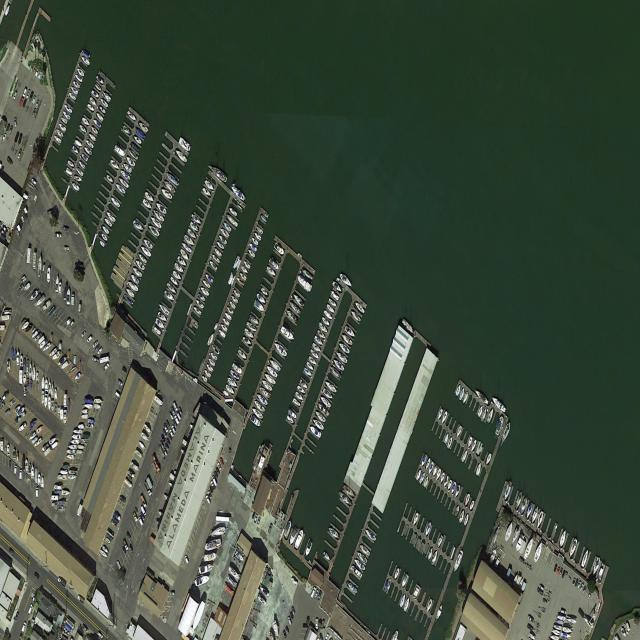large-vehicle: (144, 481, 152, 497), (57, 576, 67, 588), (139, 495, 147, 509), (76, 504, 83, 517), (494, 556, 500, 570), (1, 314, 11, 321), (71, 294, 75, 306)
ship: (208, 160, 228, 184), (499, 421, 512, 450), (452, 548, 464, 576), (257, 445, 270, 470), (280, 324, 296, 344), (231, 183, 247, 203), (338, 490, 354, 509), (491, 395, 507, 414), (297, 274, 312, 294), (523, 536, 535, 561), (204, 538, 222, 554), (493, 415, 504, 441), (339, 271, 354, 290), (273, 340, 288, 359), (474, 387, 489, 406), (503, 520, 515, 543), (503, 477, 514, 502), (533, 540, 544, 565), (209, 525, 228, 539), (166, 170, 180, 188), (228, 564, 241, 583), (294, 528, 305, 550), (514, 533, 525, 555), (285, 308, 299, 325), (316, 401, 330, 418), (329, 364, 343, 381), (225, 212, 239, 229), (178, 136, 192, 153), (328, 524, 341, 542), (434, 602, 444, 625), (335, 349, 349, 365), (311, 416, 325, 432), (308, 424, 322, 440), (174, 148, 188, 164), (163, 179, 177, 195), (251, 405, 264, 422), (289, 300, 302, 317), (292, 291, 305, 308), (401, 318, 414, 335), (364, 527, 377, 544), (568, 538, 578, 560), (324, 380, 338, 395), (580, 548, 590, 569), (519, 495, 529, 516), (341, 332, 354, 348), (338, 340, 351, 356), (333, 357, 346, 373), (345, 579, 358, 595), (350, 564, 363, 580), (157, 301, 170, 317), (150, 214, 163, 230), (161, 186, 174, 202), (147, 223, 160, 239), (199, 562, 215, 575), (195, 574, 211, 587), (176, 253, 188, 270), (283, 519, 293, 539), (558, 529, 568, 549), (597, 561, 607, 581), (264, 372, 277, 387), (343, 484, 356, 499), (314, 409, 327, 424), (319, 395, 332, 410), (250, 413, 262, 429), (254, 399, 266, 415), (256, 392, 268, 408), (261, 377, 273, 393), (269, 357, 281, 373), (350, 308, 362, 324), (231, 361, 243, 377), (253, 298, 265, 314), (344, 324, 356, 340), (354, 557, 366, 573), (151, 323, 163, 339), (153, 208, 165, 224), (133, 218, 145, 234), (289, 526, 298, 547), (592, 556, 601, 577), (530, 505, 539, 526), (514, 491, 523, 512), (331, 279, 343, 294), (259, 386, 271, 401), (266, 364, 278, 379), (322, 387, 334, 402), (356, 550, 368, 565), (359, 542, 371, 557), (154, 317, 166, 332), (157, 310, 169, 325), (171, 268, 183, 283), (173, 261, 185, 276), (155, 201, 167, 216), (203, 178, 215, 193), (223, 583, 235, 598), (246, 320, 257, 336), (114, 143, 125, 159), (189, 219, 200, 235), (234, 548, 245, 564), (226, 574, 237, 590), (202, 552, 218, 563), (304, 540, 313, 559), (232, 255, 242, 272), (302, 268, 314, 282), (119, 168, 131, 182), (127, 147, 139, 161), (137, 120, 149, 134), (181, 241, 193, 255), (140, 245, 152, 259), (536, 510, 544, 531), (355, 301, 366, 316), (269, 257, 280, 272), (274, 242, 285, 257), (225, 383, 236, 398), (229, 368, 240, 383), (244, 326, 255, 341), (249, 313, 260, 328), (115, 181, 126, 196), (179, 247, 190, 262), (184, 233, 195, 248), (191, 213, 202, 228), (41, 299, 52, 314), (583, 615, 594, 630), (166, 283, 178, 296), (127, 280, 139, 293), (318, 321, 329, 335), (227, 376, 238, 390), (237, 348, 248, 362), (256, 292, 267, 306), (110, 158, 121, 172), (118, 176, 129, 190), (110, 195, 121, 209), (164, 289, 175, 303), (106, 210, 117, 224), (142, 197, 153, 211), (144, 190, 155, 204), (137, 252, 148, 266), (56, 355, 67, 369), (35, 294, 46, 308), (259, 585, 270, 599), (479, 407, 488, 424), (525, 502, 533, 521), (272, 619, 280, 638), (431, 549, 439, 567), (475, 460, 483, 478), (492, 526, 500, 544), (486, 407, 494, 425), (511, 528, 519, 546), (227, 271, 236, 287), (489, 547, 497, 565), (325, 302, 336, 315), (327, 297, 338, 310), (135, 127, 146, 140), (122, 162, 133, 175), (125, 155, 136, 168), (130, 141, 141, 154), (169, 275, 180, 288), (143, 238, 154, 251), (135, 259, 146, 272), (132, 266, 143, 279), (123, 293, 134, 306), (201, 186, 212, 199), (323, 308, 333, 322), (314, 335, 324, 349), (267, 265, 277, 279), (187, 227, 197, 241), (48, 346, 58, 360), (29, 289, 39, 303), (33, 436, 43, 450), (458, 508, 466, 525), (441, 409, 449, 426), (424, 521, 432, 538), (403, 596, 411, 613), (288, 408, 298, 421), (310, 348, 320, 361), (312, 342, 322, 355), (242, 335, 252, 348), (127, 110, 137, 123), (213, 246, 223, 259), (202, 278, 212, 291), (130, 273, 140, 286), (125, 286, 135, 299), (257, 594, 267, 607), (130, 459, 140, 472), (163, 492, 173, 505), (27, 430, 37, 443), (461, 448, 469, 464), (470, 438, 478, 454), (401, 573, 409, 589), (317, 328, 326, 342), (330, 290, 340, 302), (308, 355, 318, 367), (446, 435, 454, 450), (383, 578, 391, 593), (133, 134, 143, 146), (57, 121, 67, 133), (220, 227, 230, 239), (211, 253, 221, 265), (195, 298, 205, 310), (200, 286, 210, 298), (462, 390, 470, 405), (157, 509, 167, 521), (42, 342, 52, 354), (20, 320, 30, 332), (37, 255, 42, 279), (207, 331, 214, 348), (322, 315, 331, 328), (295, 390, 304, 403), (304, 366, 313, 379), (232, 287, 241, 300), (322, 549, 331, 562), (71, 181, 80, 194), (28, 417, 37, 430), (135, 447, 144, 460), (412, 511, 419, 527), (399, 593, 406, 609), (426, 598, 433, 614), (566, 616, 577, 626), (39, 338, 49, 349), (297, 384, 306, 396), (286, 414, 295, 426), (293, 397, 302, 409), (299, 378, 308, 390), (207, 356, 216, 368), (13, 415, 22, 427), (84, 145, 93, 157), (85, 138, 94, 150), (103, 91, 112, 103), (75, 166, 84, 178), (122, 124, 131, 136), (64, 103, 73, 115), (81, 55, 90, 67), (223, 221, 232, 233), (229, 206, 238, 218), (218, 234, 227, 246), (205, 273, 214, 285), (101, 224, 110, 236), (104, 217, 113, 229), (189, 421, 198, 433), (52, 351, 61, 363), (18, 422, 27, 434), (41, 441, 50, 453), (50, 439, 59, 451), (463, 512, 470, 527), (435, 467, 442, 482), (454, 503, 461, 518), (450, 480, 457, 495), (485, 452, 492, 467), (459, 387, 466, 402), (455, 383, 462, 398), (454, 484, 461, 499), (468, 498, 475, 513), (464, 492, 471, 507), (427, 546, 434, 561), (413, 585, 420, 600), (477, 404, 484, 419), (306, 361, 315, 372), (203, 368, 212, 379), (230, 294, 239, 305), (236, 276, 245, 287), (88, 131, 97, 142), (93, 118, 102, 129), (74, 138, 83, 149), (62, 110, 71, 121), (96, 75, 105, 86), (82, 48, 91, 59), (68, 91, 77, 102), (74, 73, 83, 84), (76, 67, 85, 78), (216, 240, 225, 251), (193, 305, 202, 316), (209, 260, 218, 271), (562, 626, 573, 635), (556, 613, 567, 622), (24, 323, 33, 334), (99, 549, 108, 560), (141, 432, 150, 443), (17, 406, 26, 417), (439, 471, 446, 485), (420, 453, 427, 467), (423, 474, 430, 488), (419, 471, 426, 485), (415, 468, 422, 482), (436, 535, 443, 549), (456, 425, 463, 439), (393, 567, 400, 581), (220, 322, 228, 334), (100, 97, 108, 109), (106, 173, 114, 185), (560, 632, 572, 640), (61, 360, 69, 372), (23, 281, 31, 293), (128, 468, 136, 480), (36, 423, 44, 435), (49, 434, 57, 446), (428, 461, 435, 474), (443, 475, 450, 488), (437, 408, 444, 421), (517, 578, 524, 591), (260, 287, 269, 297), (90, 125, 99, 135), (53, 135, 62, 145), (72, 80, 81, 90), (255, 225, 264, 235), (206, 363, 214, 374), (218, 328, 226, 339), (224, 311, 232, 322), (228, 300, 236, 311), (239, 271, 247, 282), (243, 259, 251, 270), (78, 159, 86, 170), (67, 159, 75, 170), (72, 145, 80, 156), (79, 124, 87, 135), (82, 117, 90, 128), (70, 86, 78, 97), (249, 242, 257, 253), (254, 231, 262, 242), (198, 292, 206, 303), (100, 232, 108, 243), (2, 391, 10, 402), (31, 329, 39, 340), (180, 447, 188, 458), (114, 511, 122, 522), (66, 288, 71, 305), (46, 267, 51, 284), (432, 464, 438, 478), (447, 478, 453, 492), (552, 628, 561, 637), (553, 623, 562, 632), (210, 352, 218, 362), (212, 346, 220, 356), (222, 317, 230, 327), (226, 306, 234, 316), (241, 265, 249, 275), (96, 112, 104, 122), (65, 167, 73, 177), (81, 153, 89, 163), (87, 103, 95, 113), (74, 174, 82, 184), (89, 97, 97, 107), (247, 248, 255, 258), (92, 90, 100, 100), (56, 128, 64, 138), (60, 115, 68, 125), (251, 236, 259, 246), (260, 214, 268, 224), (74, 372, 82, 382), (138, 440, 146, 450), (143, 424, 151, 434), (173, 468, 181, 478), (168, 481, 176, 491), (425, 458, 431, 471), (444, 432, 450, 445), (467, 436, 473, 449), (4, 4, 10, 17), (291, 576, 298, 587), (55, 275, 59, 293), (101, 545, 109, 554), (512, 574, 518, 586), (81, 403, 93, 409), (99, 105, 106, 115), (95, 83, 102, 93), (201, 374, 208, 384), (6, 360, 11, 374), (14, 404, 21, 414), (71, 434, 82, 440), (41, 375, 45, 391), (63, 410, 67, 426), (58, 281, 62, 296), (32, 366, 36, 381), (67, 444, 77, 450), (61, 490, 71, 496), (83, 398, 93, 404), (556, 619, 564, 626), (13, 348, 17, 362), (41, 391, 45, 405), (45, 379, 49, 393), (67, 400, 71, 414), (31, 465, 35, 479), (57, 505, 66, 511), (223, 389, 229, 398), (20, 215, 26, 224), (82, 433, 91, 439), (61, 464, 70, 470), (73, 429, 82, 435), (54, 484, 63, 490), (93, 404, 102, 410), (29, 379, 33, 392), (48, 381, 52, 394), (41, 476, 45, 489), (24, 458, 28, 471), (6, 443, 10, 456), (59, 470, 69, 475), (57, 475, 67, 480), (67, 474, 77, 479), (94, 399, 104, 404), (17, 350, 20, 366), (81, 439, 89, 445), (105, 536, 111, 544), (15, 452, 19, 464), (51, 383, 54, 398), (48, 396, 51, 411), (45, 393, 48, 408), (29, 363, 32, 378), (52, 491, 61, 496), (70, 440, 79, 445), (66, 455, 75, 460), (12, 449, 16, 460), (99, 241, 105, 248), (10, 345, 13, 359), (78, 444, 85, 450), (87, 423, 94, 429), (76, 450, 84, 455), (77, 424, 85, 429), (66, 450, 76, 454), (81, 409, 89, 414), (20, 354, 23, 367), (27, 360, 30, 373), (23, 359, 26, 372), (214, 322, 218, 331), (51, 401, 54, 413), (38, 473, 41, 485), (69, 470, 78, 474), (88, 419, 95, 424), (54, 404, 57, 415), (54, 388, 57, 399), (81, 415, 89, 419), (23, 374, 26, 384), (28, 464, 31, 474)
small-vehicle: (77, 593, 85, 605), (133, 511, 139, 524), (212, 475, 218, 488), (82, 623, 89, 634), (140, 505, 147, 516), (578, 608, 585, 619), (21, 621, 27, 633), (123, 539, 129, 551), (28, 91, 34, 103), (22, 86, 28, 98), (163, 423, 169, 435), (172, 401, 178, 413), (310, 586, 316, 598), (86, 333, 93, 343), (138, 516, 144, 527), (126, 530, 132, 541), (174, 414, 180, 425), (160, 432, 166, 443), (210, 480, 216, 491), (213, 470, 219, 481), (162, 428, 168, 439), (176, 410, 182, 421), (205, 494, 211, 505), (14, 610, 19, 623), (8, 547, 15, 556), (103, 363, 110, 372), (92, 340, 99, 349), (28, 603, 33, 615), (97, 346, 103, 356), (7, 156, 13, 166), (216, 461, 222, 471), (170, 406, 176, 416), (207, 490, 213, 500), (268, 522, 273, 534), (92, 356, 99, 364), (168, 432, 173, 443), (26, 89, 31, 100), (19, 96, 24, 107), (18, 133, 23, 144), (171, 423, 176, 434), (215, 465, 220, 476), (219, 456, 224, 467), (169, 411, 174, 422), (254, 513, 259, 524), (317, 590, 322, 601), (291, 605, 296, 616), (97, 631, 103, 640), (34, 571, 40, 580), (115, 391, 121, 400), (94, 343, 100, 352), (31, 178, 37, 187), (528, 614, 534, 623), (537, 587, 543, 596), (527, 623, 533, 632), (166, 437, 171, 447), (160, 439, 165, 449), (163, 447, 168, 457), (140, 512, 145, 522), (22, 98, 27, 108), (32, 108, 37, 118), (13, 90, 18, 100), (14, 132, 19, 142), (17, 149, 22, 159), (8, 125, 13, 135), (169, 428, 174, 438), (574, 578, 579, 588), (209, 484, 214, 494), (184, 555, 189, 565), (19, 469, 23, 481), (117, 379, 123, 387), (54, 233, 62, 239), (542, 597, 548, 605), (122, 366, 128, 374), (35, 99, 40, 108), (32, 95, 37, 104), (37, 71, 42, 80), (5, 122, 10, 131), (577, 580, 582, 589), (314, 589, 319, 598), (14, 464, 18, 475), (41, 72, 45, 83), (51, 501, 58, 507), (1, 230, 7, 237), (35, 488, 39, 498), (8, 460, 12, 470), (129, 543, 133, 553), (2, 132, 6, 142), (559, 567, 563, 577), (554, 563, 558, 573), (539, 584, 544, 592), (519, 556, 524, 564), (580, 582, 584, 592), (81, 330, 86, 338), (257, 516, 261, 526), (288, 616, 292, 626), (285, 625, 289, 635), (122, 545, 126, 554), (135, 506, 139, 515), (173, 419, 177, 428), (560, 609, 566, 615), (572, 577, 576, 586), (562, 569, 566, 578), (557, 566, 561, 575), (583, 585, 587, 594), (283, 629, 287, 638), (178, 406, 182, 415), (315, 618, 318, 630), (290, 611, 294, 620), (165, 443, 169, 451), (35, 69, 39, 77), (33, 67, 37, 75), (588, 591, 592, 599), (23, 387, 26, 397), (64, 246, 70, 251), (64, 227, 70, 232), (303, 623, 308, 629), (14, 118, 17, 127), (26, 378, 29, 387), (170, 591, 175, 595)
